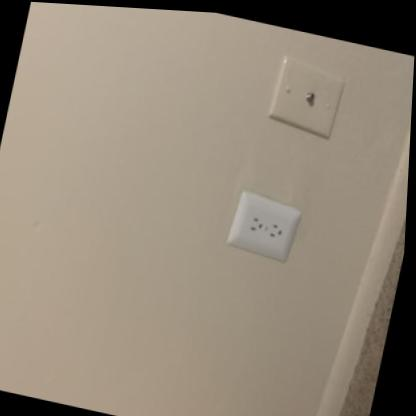OUTLET: (224, 192, 303, 263)
